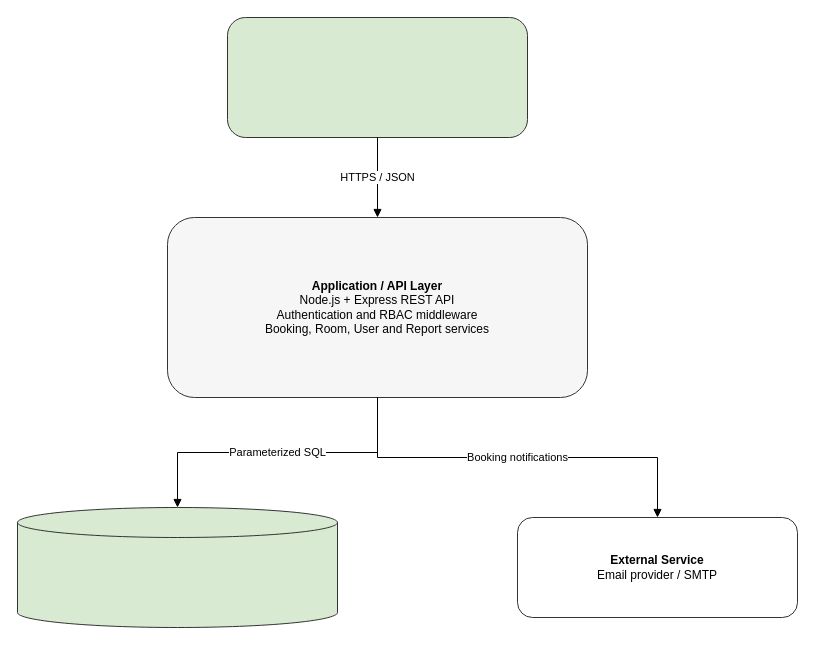
This 815x645 diagram has some shape labels left out. The centre of each missing label's shape, as x and y in pixels:
"Data Layer PostgreSQL Constraints, indexes and transactions" belongs at (x=177, y=567).
"Presentation Layer Web Browser React UI" belongs at (x=377, y=77).
